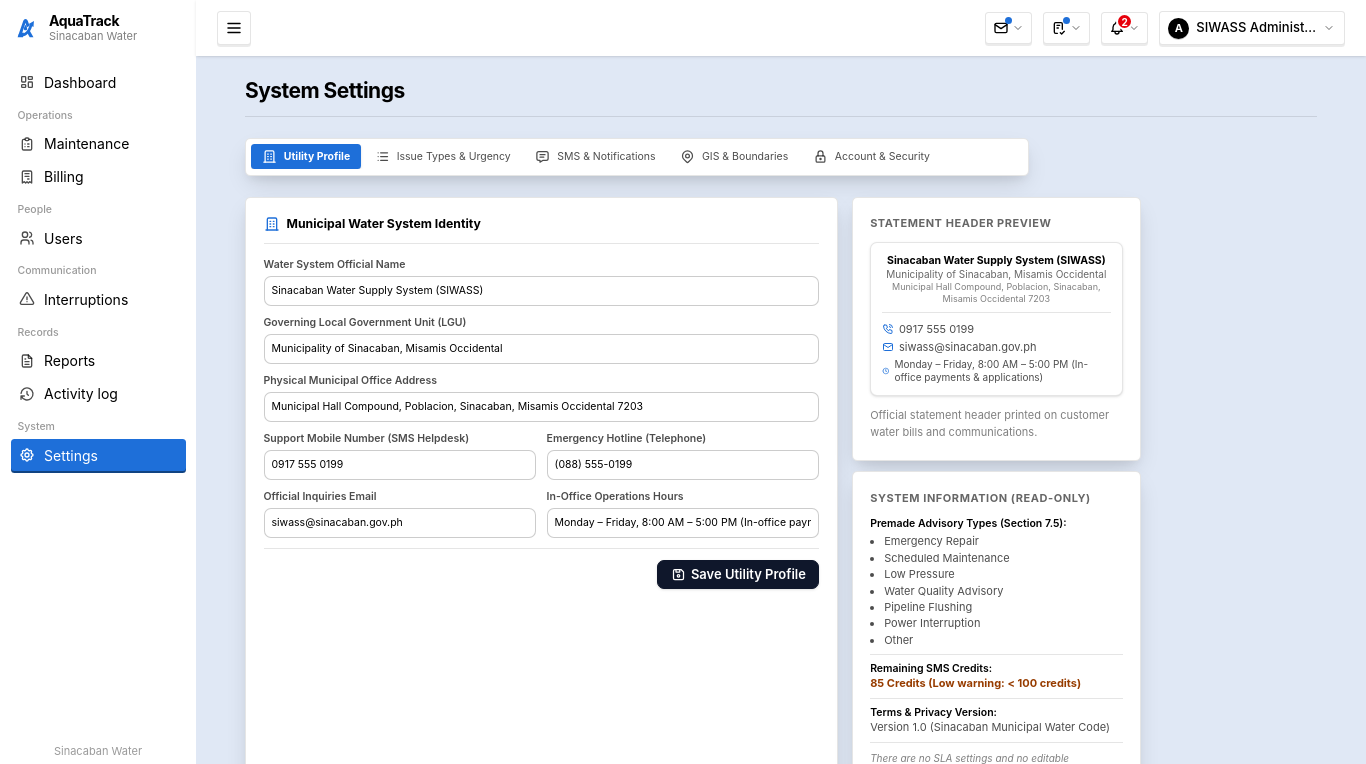
Test: AdminSettingsView (Workflow Parameters & System Configuration) › switches to Account & Security tab and validates master password fields
Click the button "Account & Security": (871, 157) [802,144,940,169]
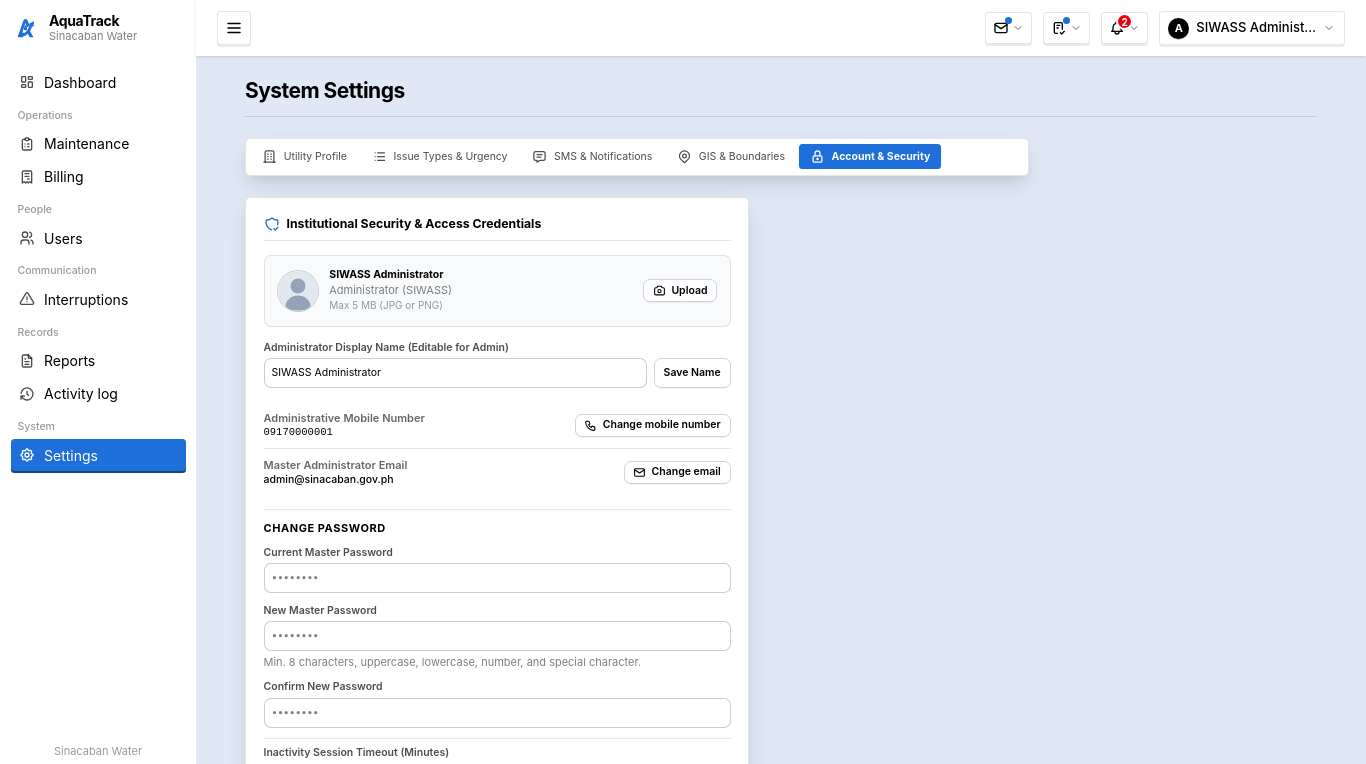
Expected: the text "Institutional Security & Access Credentials" is shown, [286,215,541,232]
Expected: the text "Master Administrator Email" is shown, [264,458,407,473]
